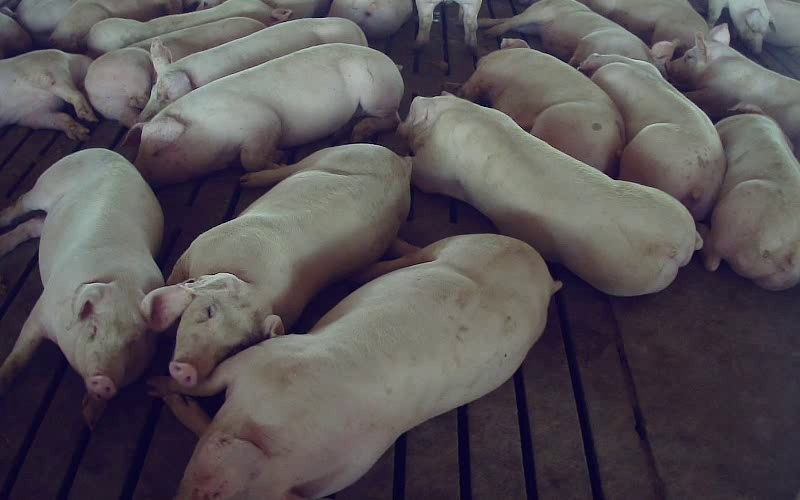pig: (153, 235, 558, 499), (399, 95, 701, 295), (0, 148, 190, 426), (123, 44, 402, 182), (579, 54, 725, 219), (139, 19, 367, 120), (461, 38, 624, 175), (666, 24, 799, 159), (705, 104, 799, 289), (480, 0, 675, 66), (87, 0, 291, 54), (580, 0, 708, 55)
